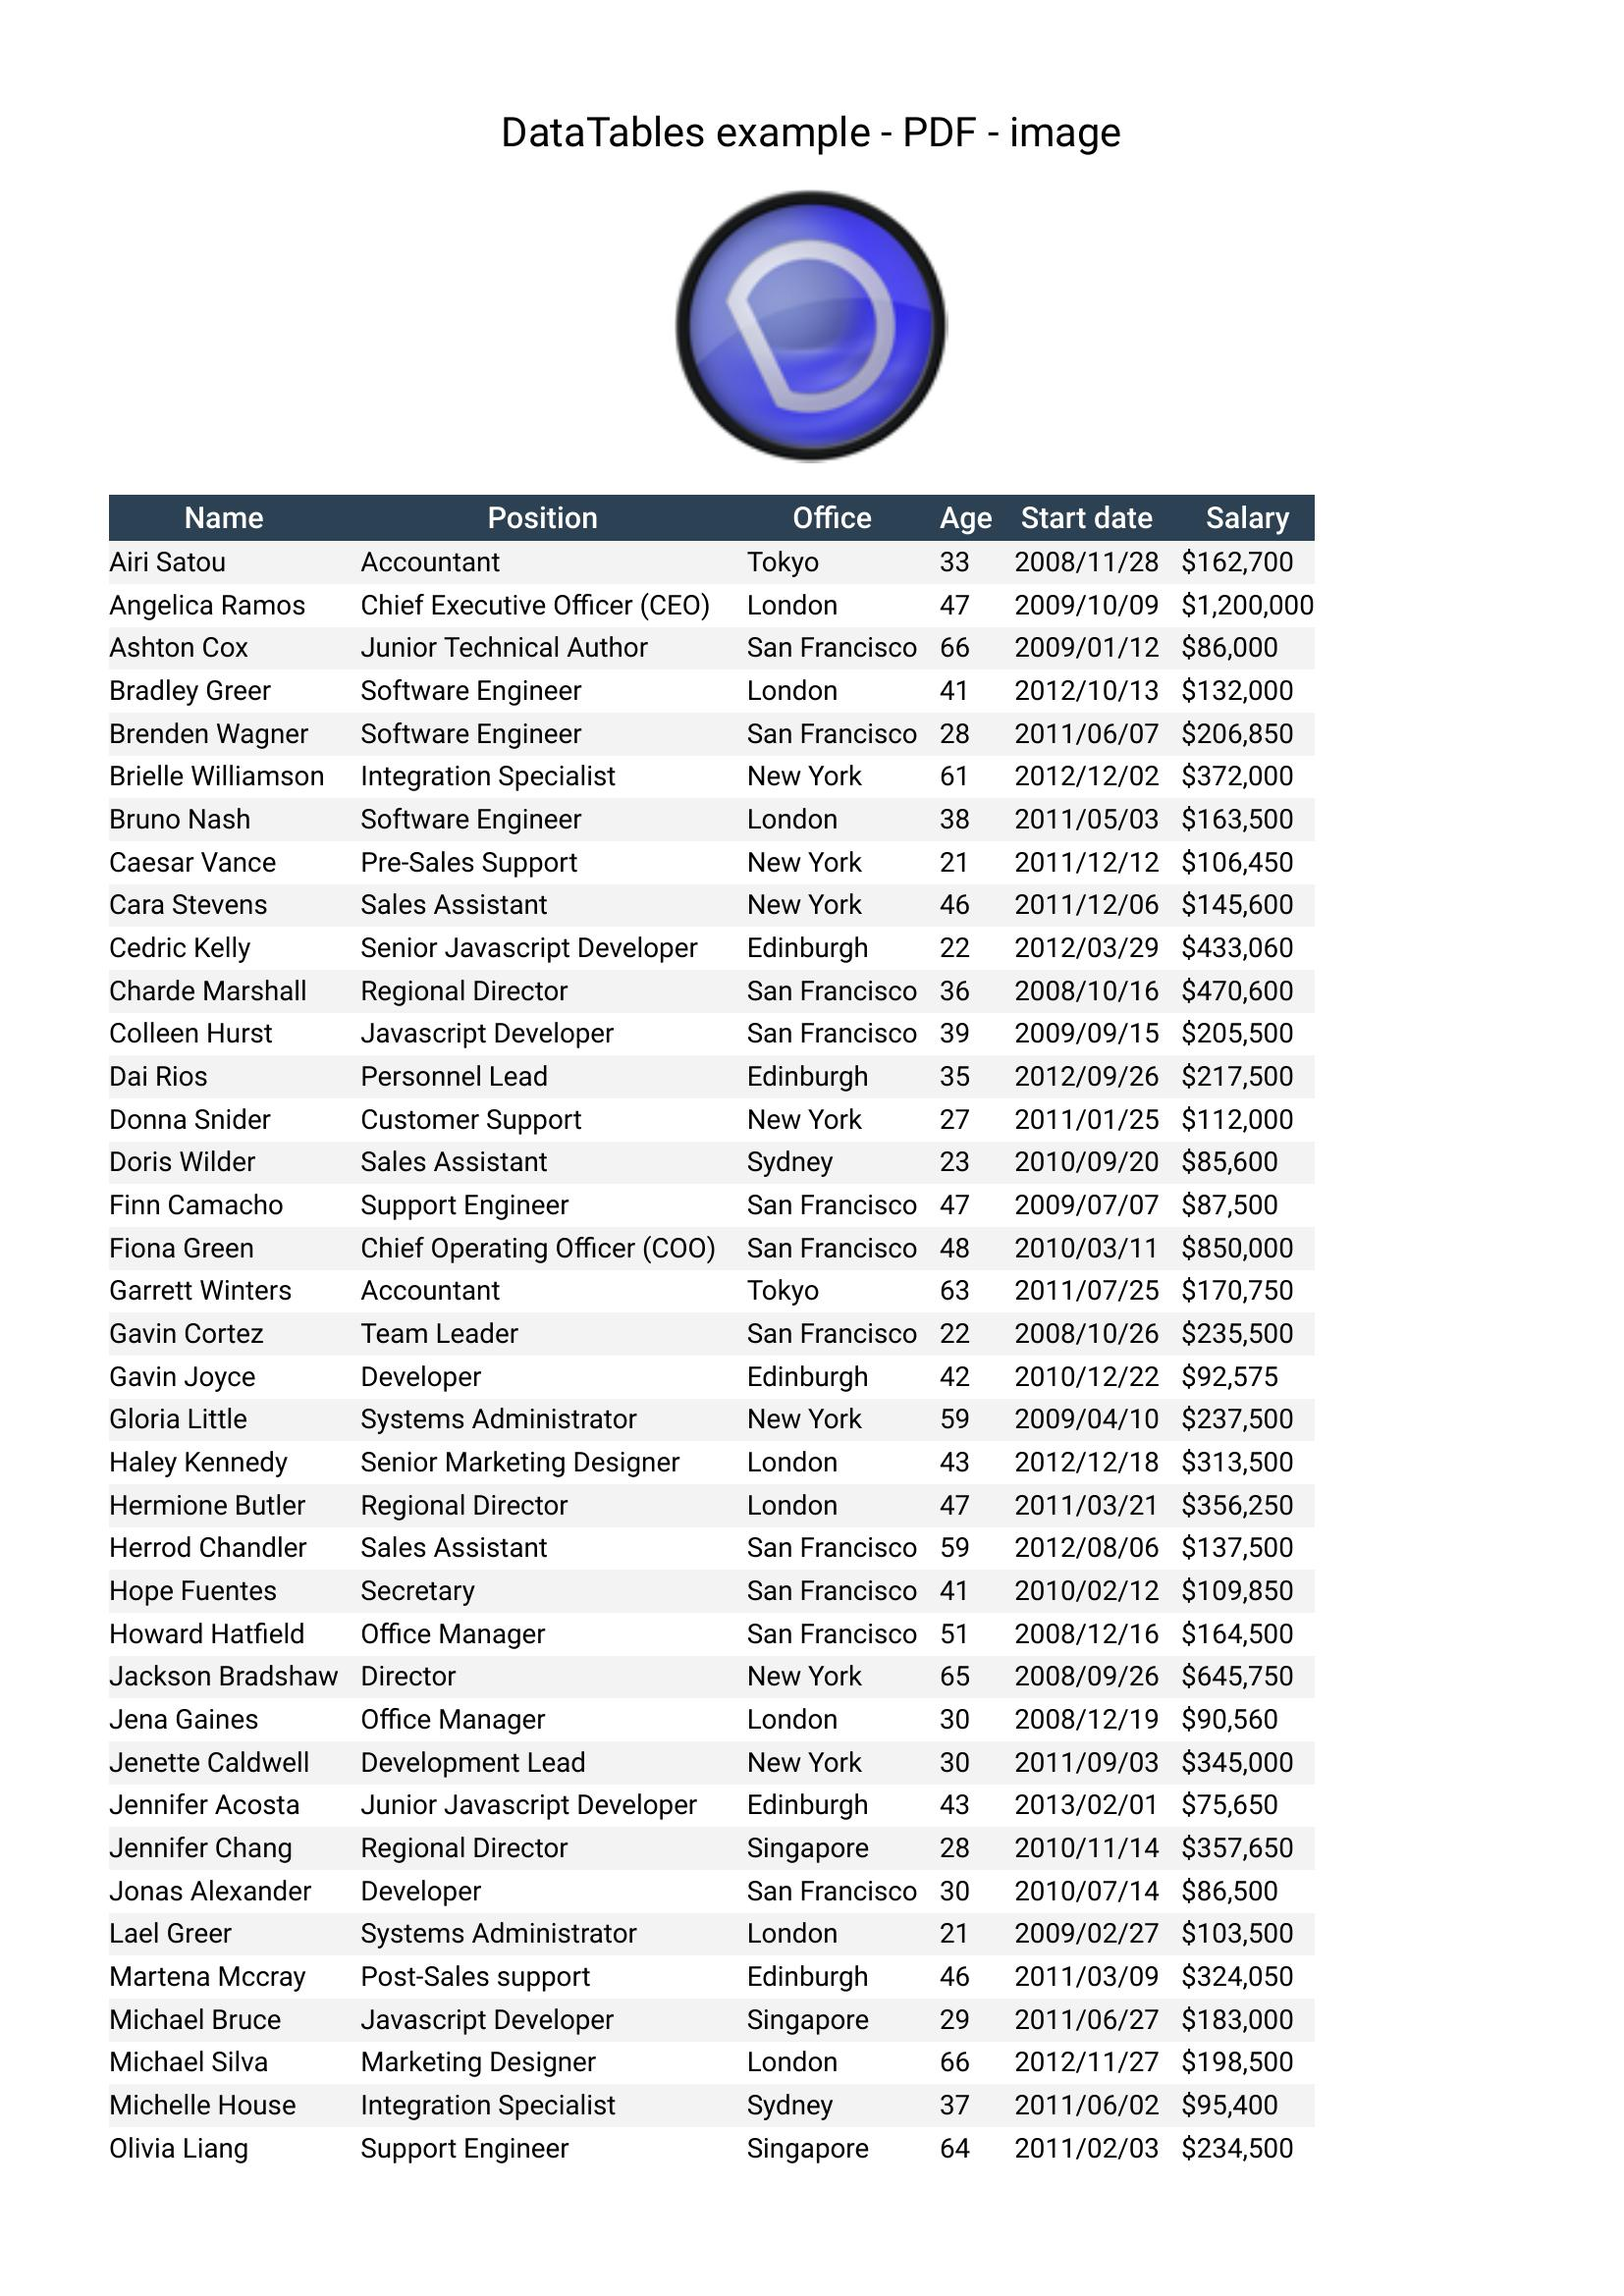table: (105, 488, 1322, 2171)
